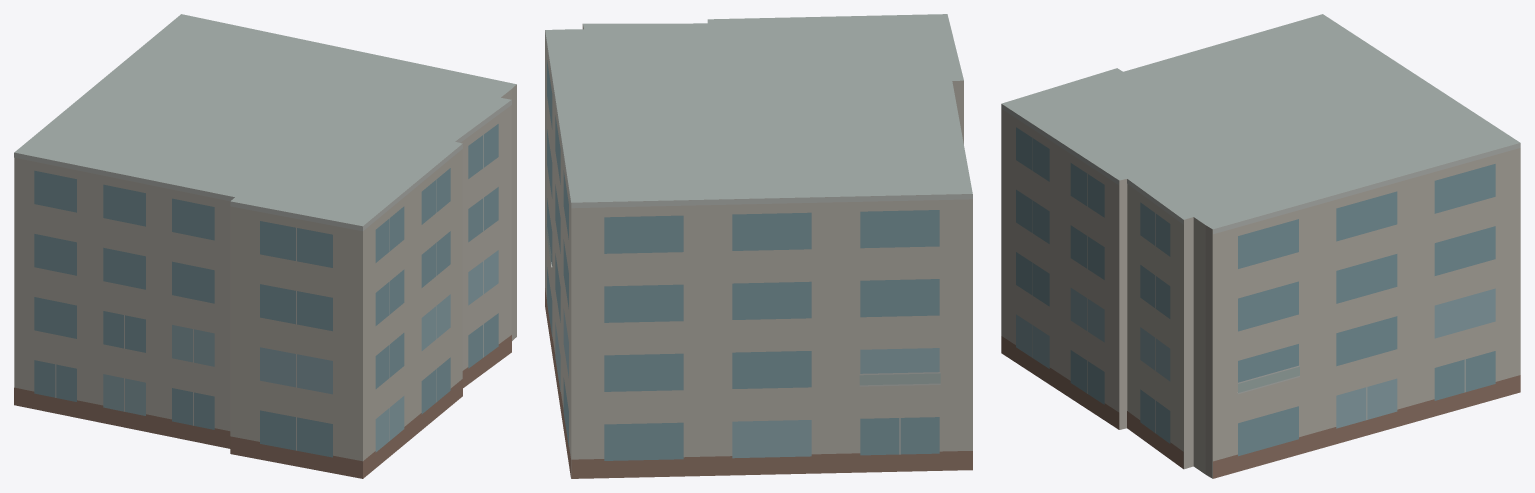
File: survey-upis-32820282.glb
3 views of the same model, side by side, from view 1: azimuth 30°, elevation 25°; view 2: azimuth 150°, elevation 25°; view 3: azimuth 270°, elevation 25° (orthographic). The views are drawn at different scales.
Parts seen in each view (by area): view 1: survey-upis-32820282.tmp; view 2: survey-upis-32820282.tmp; view 3: survey-upis-32820282.tmp.
Part boxes in pixels (x1,y1,x2,y2): survey-upis-32820282.tmp: [14, 14, 516, 478]; survey-upis-32820282.tmp: [545, 14, 972, 478]; survey-upis-32820282.tmp: [1001, 14, 1520, 478].
Size of the model in its own units: 22.6 by 12.2 by 23.02.
